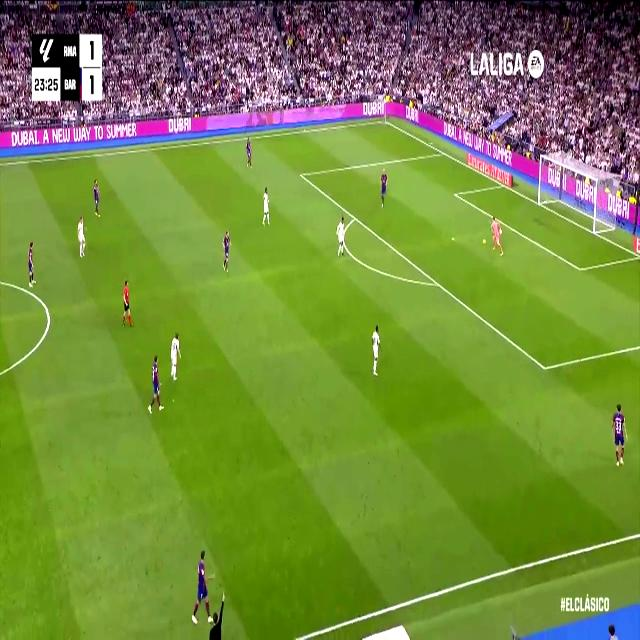bigarea_bottom_inner: (540, 356, 550, 380)
bigarea_top_inner: (298, 166, 304, 182)
bottom_arc_area_intersection: (433, 275, 442, 292)
corner: (381, 116, 389, 126)
smallarea_bottom_inner: (576, 260, 584, 278)
smallarea_top_inner: (452, 188, 458, 199)
top_arc_area_intersection: (352, 211, 358, 224)
